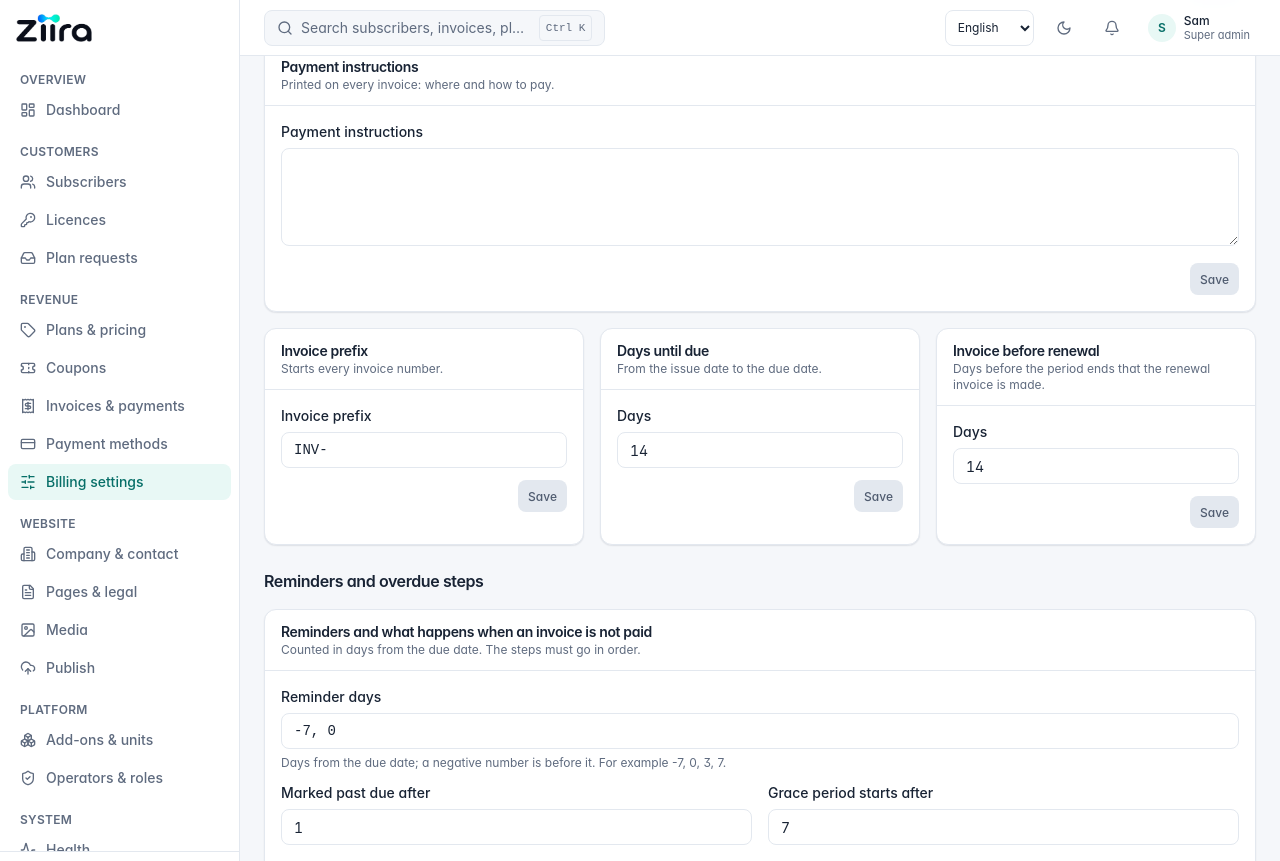
billing settings › saves one setting on its own and shows the server's message beside it
(page scrolled)
Expected: the button "Save" below "From the issue date to the due date." is disabled, [854,480,903,512]
Step 1. Replace the text in the field labelled "Days" below "From the issue date to the due date." with "999" → (760, 450), box [617,432,903,468]
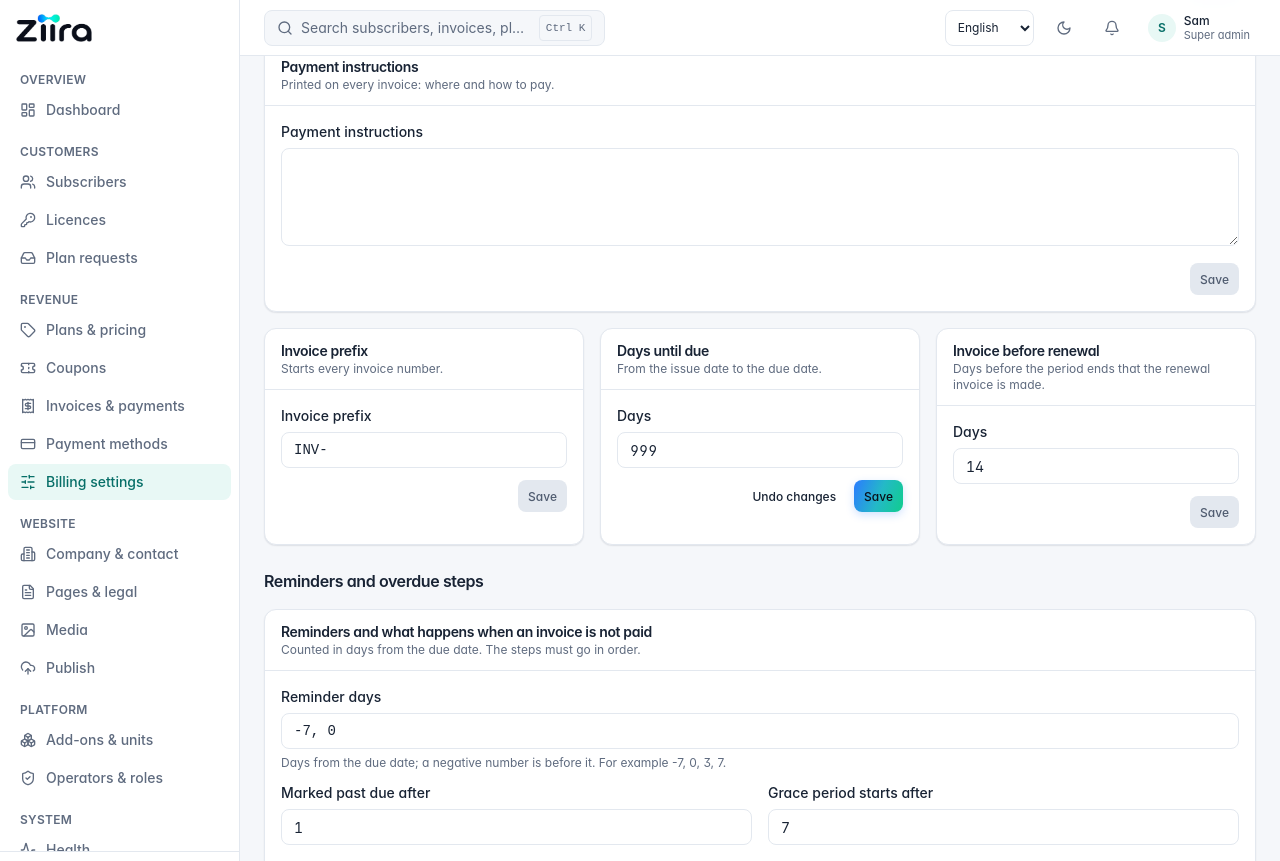
Step 2. Click the button "Save" below "From the issue date to the due date." → (879, 496), box [854,480,903,512]
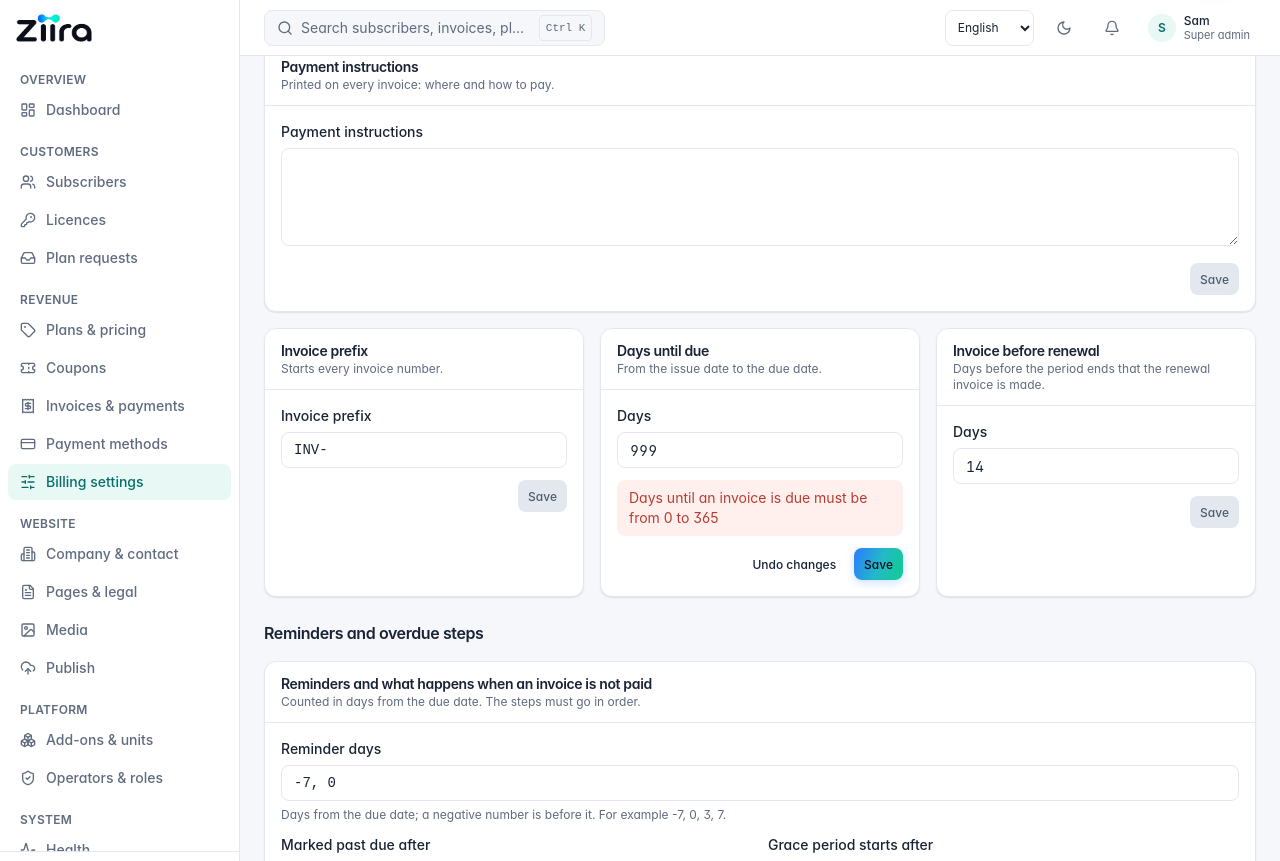
Expected: the text "Days until an invoice is due must be from 0 to 365" is shown, [617,480,903,536]
